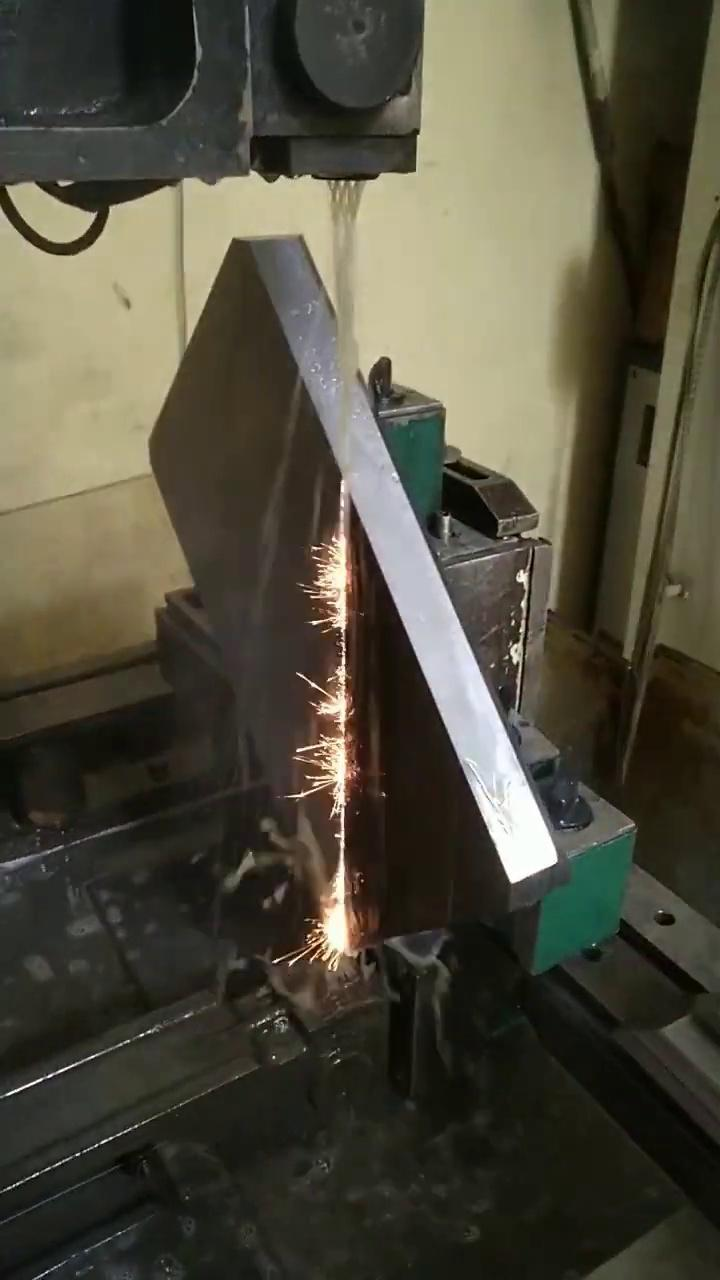fire: (183, 234, 462, 1005)
